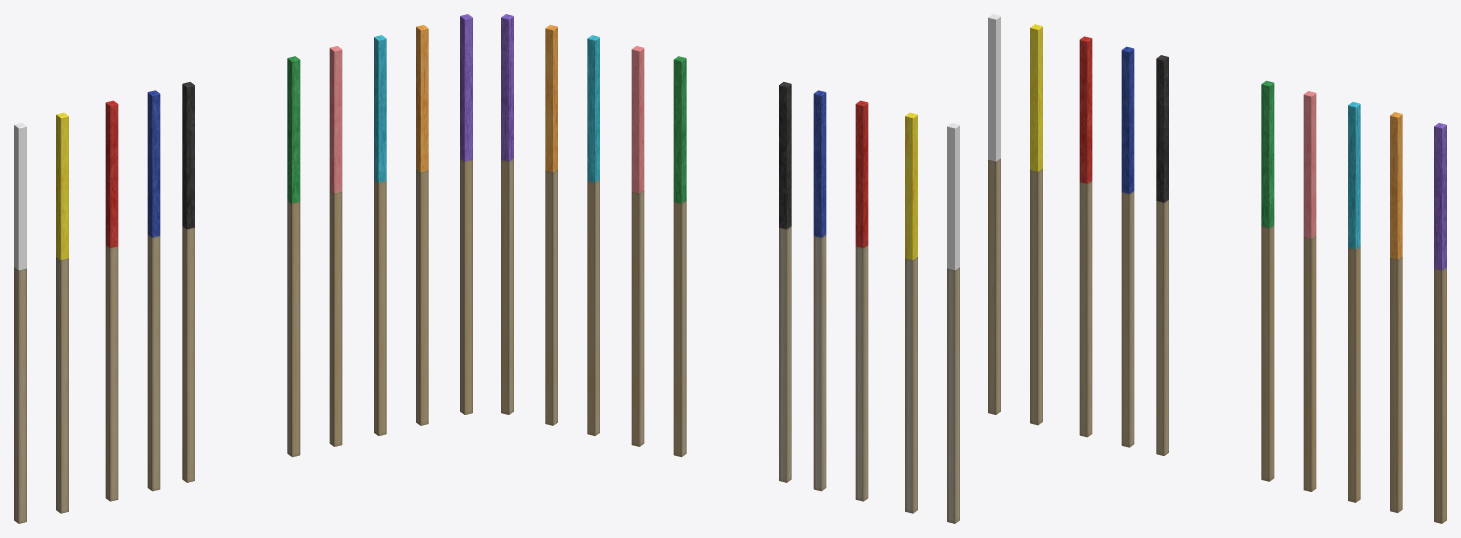
File: SM_Sangaji.fbx
3 renders of one model, left to right at view 1: azimuth 30°, elevation 25°; view 2: azimuth 150°, elevation 25°; view 3: azimuth 330°, elevation 25°, orthographic.
Visible parts, largest first — view 1: Sangaji5, Sangaji6, Sangaji9, Sangaji10, Sangaji3, Sangaji1, Sangaji4, Sangaji7, Sangaji8, Sangaji2; view 2: Sangaji5, Sangaji6, Sangaji9, Sangaji10, Sangaji3, Sangaji1, Sangaji4, Sangaji7, Sangaji8, Sangaji2; view 3: Sangaji5, Sangaji6, Sangaji9, Sangaji10, Sangaji3, Sangaji1, Sangaji4, Sangaji7, Sangaji8, Sangaji2.
Boxes of the visible parts, box(x1,y1,x2,y2) form: Sangaji5: box(329, 46, 342, 446); Sangaji6: box(105, 100, 118, 501); Sangaji9: box(147, 90, 160, 491); Sangaji10: box(287, 56, 300, 457); Sangaji3: box(56, 112, 68, 513); Sangaji1: box(14, 123, 26, 523); Sangaji4: box(416, 25, 428, 425); Sangaji7: box(460, 14, 472, 414); Sangaji8: box(374, 35, 386, 435); Sangaji2: box(182, 82, 194, 482); Sangaji5: box(631, 46, 644, 446); Sangaji6: box(855, 100, 868, 501); Sangaji9: box(813, 90, 826, 491); Sangaji10: box(673, 56, 686, 457); Sangaji3: box(905, 112, 917, 513); Sangaji1: box(947, 123, 959, 523); Sangaji4: box(545, 25, 557, 425); Sangaji7: box(501, 14, 513, 414); Sangaji8: box(587, 35, 599, 435); Sangaji2: box(779, 82, 791, 482); Sangaji5: box(1303, 91, 1316, 491); Sangaji6: box(1079, 36, 1092, 437); Sangaji9: box(1121, 46, 1134, 447); Sangaji10: box(1261, 80, 1274, 481); Sangaji3: box(1030, 24, 1042, 425); Sangaji1: box(988, 14, 1000, 414); Sangaji4: box(1390, 112, 1402, 512); Sangaji7: box(1434, 123, 1446, 523); Sangaji8: box(1348, 102, 1360, 502); Sangaji2: box(1156, 55, 1168, 455).
Size of the model in its own units: 21.61 by 18 by 0.4.
Materials: 1 (1 with a texture image).
